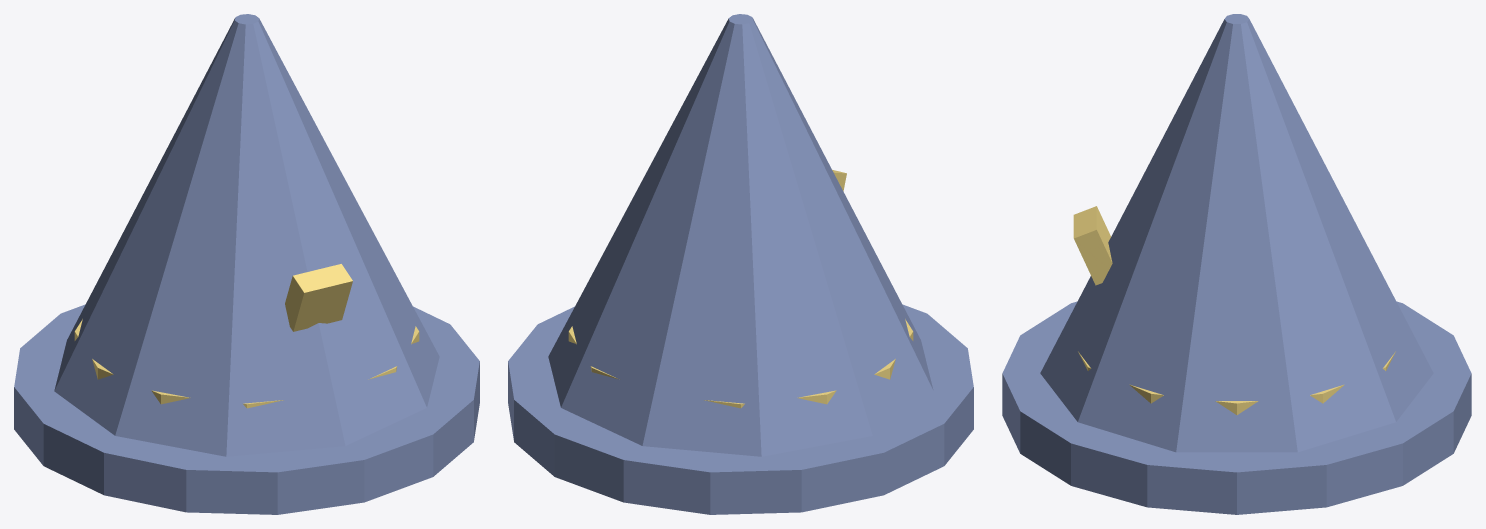
The model's file is wizard_hat.glb.
3 views of the same model, side by side, from view 1: azimuth 30°, elevation 25°; view 2: azimuth 150°, elevation 25°; view 3: azimuth 270°, elevation 25° (orthographic).
Parts seen in each view (by area): view 1: hut, krempe.001, stern, band.002; view 2: hut, krempe.001, band.002; view 3: hut, krempe.001, stern, band.002.
Part boxes in pixels (bbox=[...]): hut: bbox=[54, 14, 439, 456]; krempe.001: bbox=[14, 304, 479, 514]; stern: bbox=[285, 264, 352, 331]; band.002: bbox=[74, 319, 419, 408]; hut: bbox=[548, 14, 933, 456]; krempe.001: bbox=[508, 304, 973, 514]; band.002: bbox=[568, 319, 913, 408]; hut: bbox=[1040, 14, 1433, 452]; krempe.001: bbox=[1002, 301, 1471, 514]; stern: bbox=[1073, 206, 1112, 285]; band.002: bbox=[1078, 351, 1395, 414].
Bounding box in the file's own units: 0.15 × 0.14 × 0.15.
